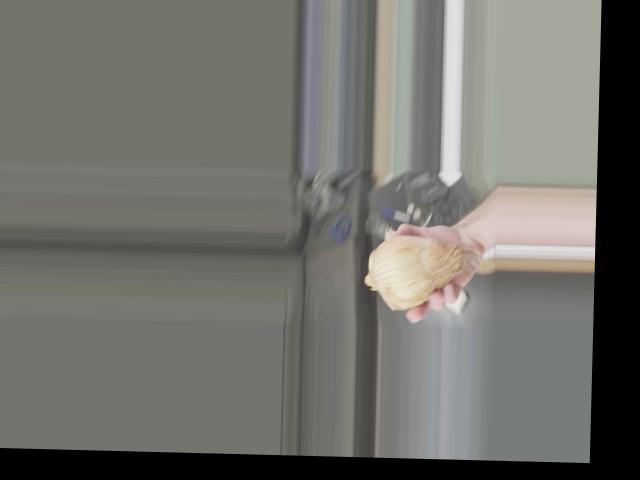onion: (365, 233, 459, 310)
